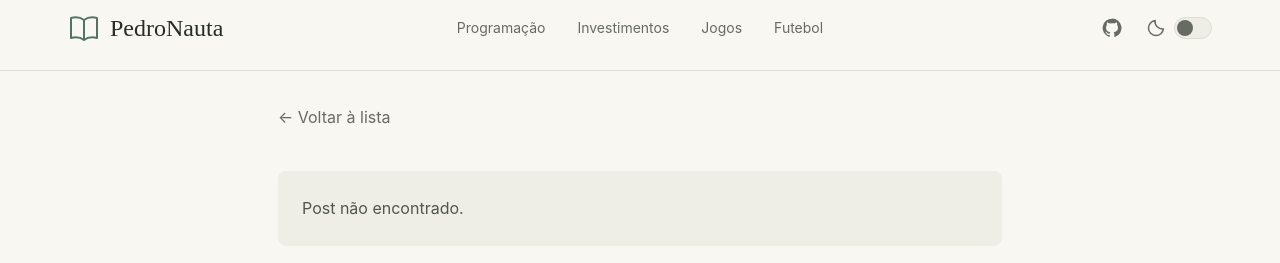
trata post inexistente e lista vazia
Check: the message reads "Post não encontrado.", box [302,198,464,218]
Click the button "← Voltar à lista".
click(334, 117)  # box [278,95,390,139]
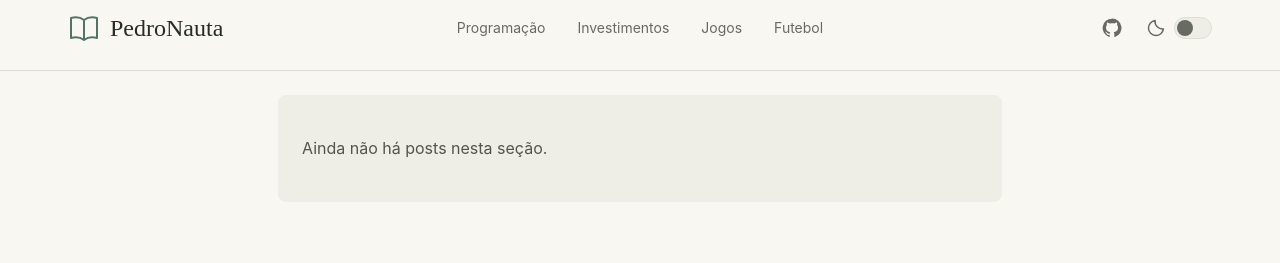
Check: the text "Ainda não há posts nesta seção." is shown, box [302,138,547,158]
